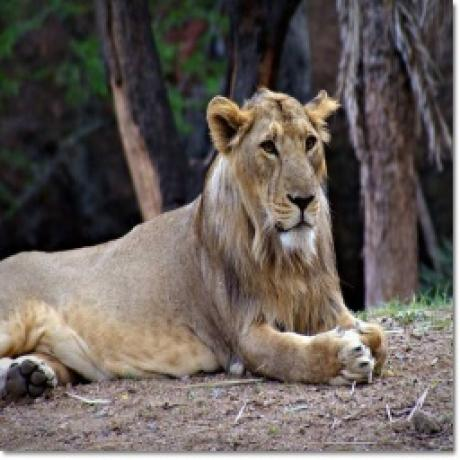Lion: (0, 85, 388, 405)
